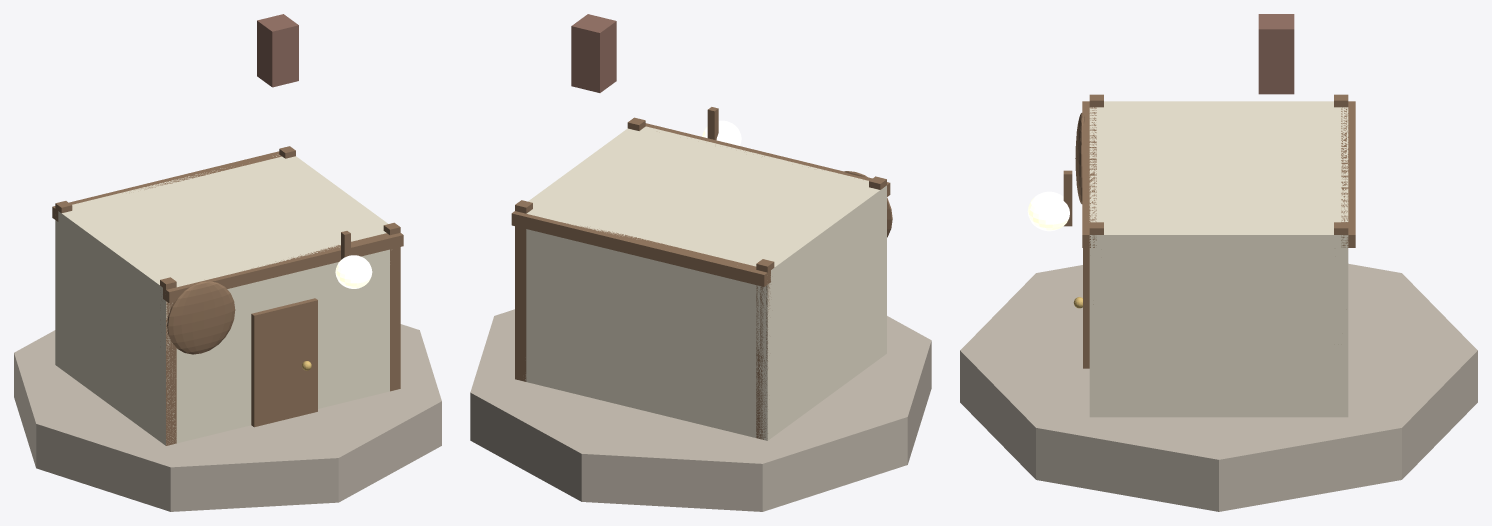
File: chibi_house_red.glb
3 views of the same model, side by side, from view 1: azimuth 30°, elevation 25°; view 2: azimuth 150°, elevation 25°; view 3: azimuth 270°, elevation 25° (orthographic). The views are drawn at different scales.
Parts seen in each view (by area): view 1: ChibiHouse_red_1; view 2: ChibiHouse_red_1; view 3: ChibiHouse_red_1.
Boxes of the visible parts, x1,y1,x2,y2 form: ChibiHouse_red_1: (14,14,441,511); ChibiHouse_red_1: (470,14,931,511); ChibiHouse_red_1: (960,14,1477,511).
Size of the model in its own units: 3.6 by 3.25 by 3.6.
